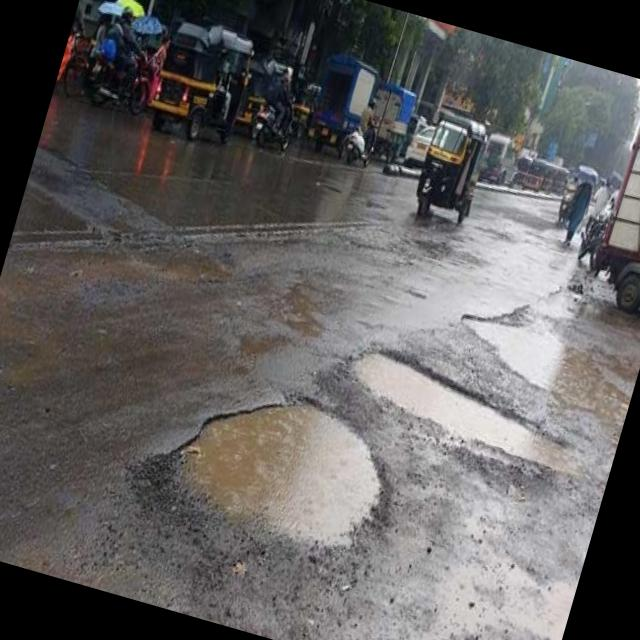Potholes: (108, 330, 424, 600), (338, 324, 596, 497), (446, 229, 640, 434)
